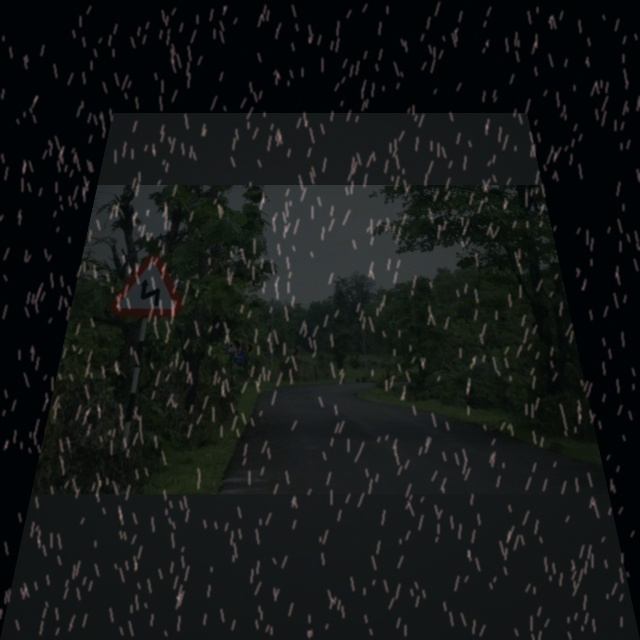Left_Reverse_Bend: (107, 253, 185, 318)
